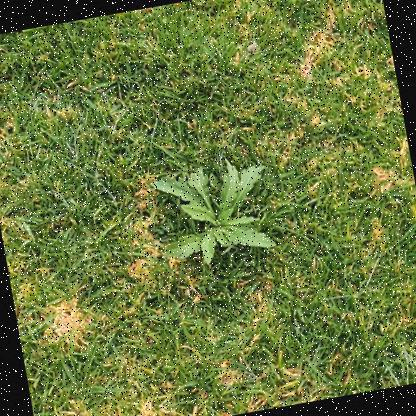Weeds: (148, 151, 280, 272)
